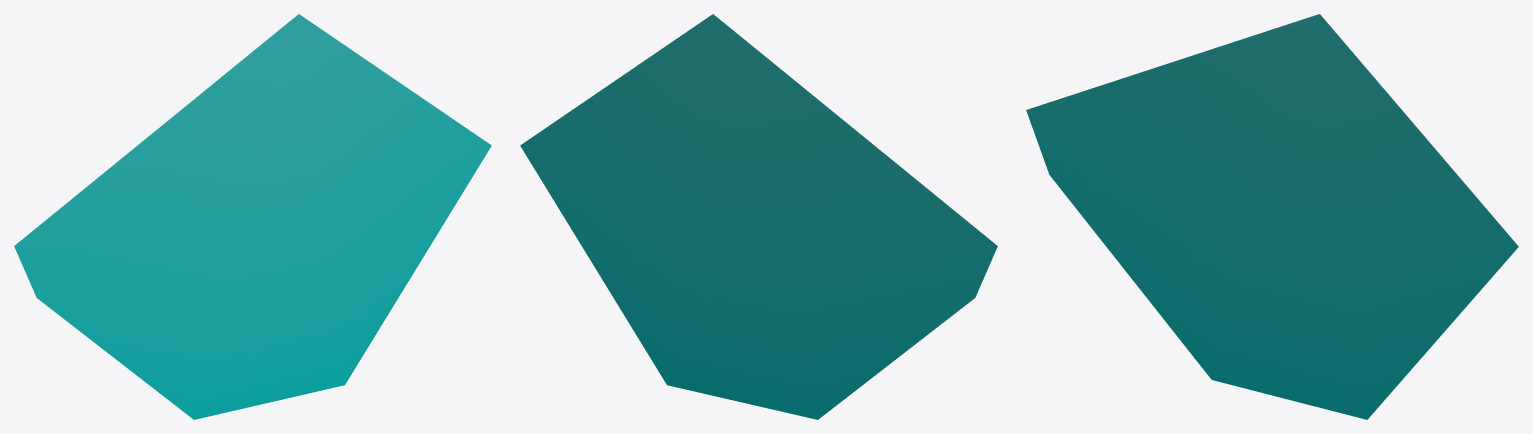
The model's file is Field_Poppy_vmcobd0ja_Low_vmcobd0ja_VarG_LOD2.fbx.
3 renders of one model, left to right at view 1: azimuth 30°, elevation 25°; view 2: azimuth 150°, elevation 25°; view 3: azimuth 330°, elevation 25°, orthographic. The views are drawn at different scales.
Visible parts, largest first — view 1: _feup_VarG_LOD4; view 2: _feup_VarG_LOD4; view 3: _feup_VarG_LOD4.
Boxes of the visible parts, bbox=[...] form: _feup_VarG_LOD4: bbox=[14, 14, 491, 419]; _feup_VarG_LOD4: bbox=[520, 14, 997, 419]; _feup_VarG_LOD4: bbox=[1026, 14, 1518, 419].
Bounding box in the file's own units: 51.54 × 39.42 × 0.
